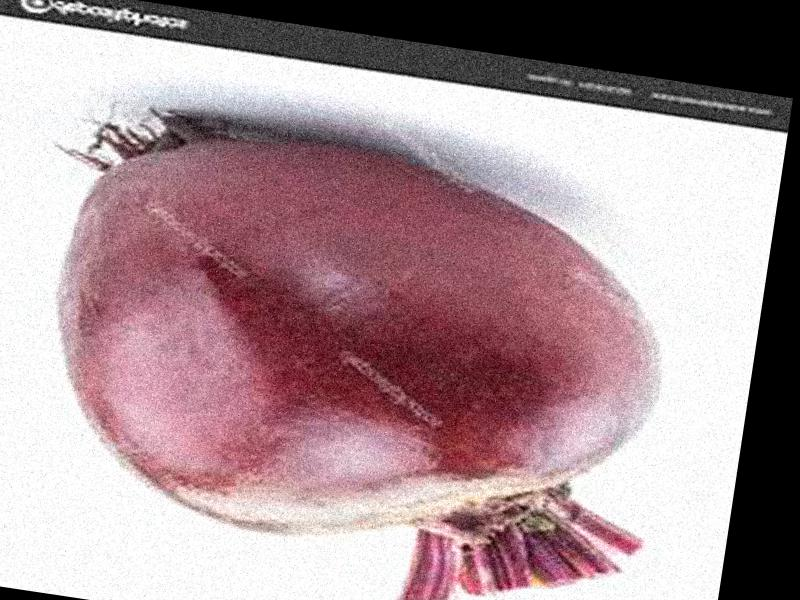Beet: (22, 105, 689, 600)
